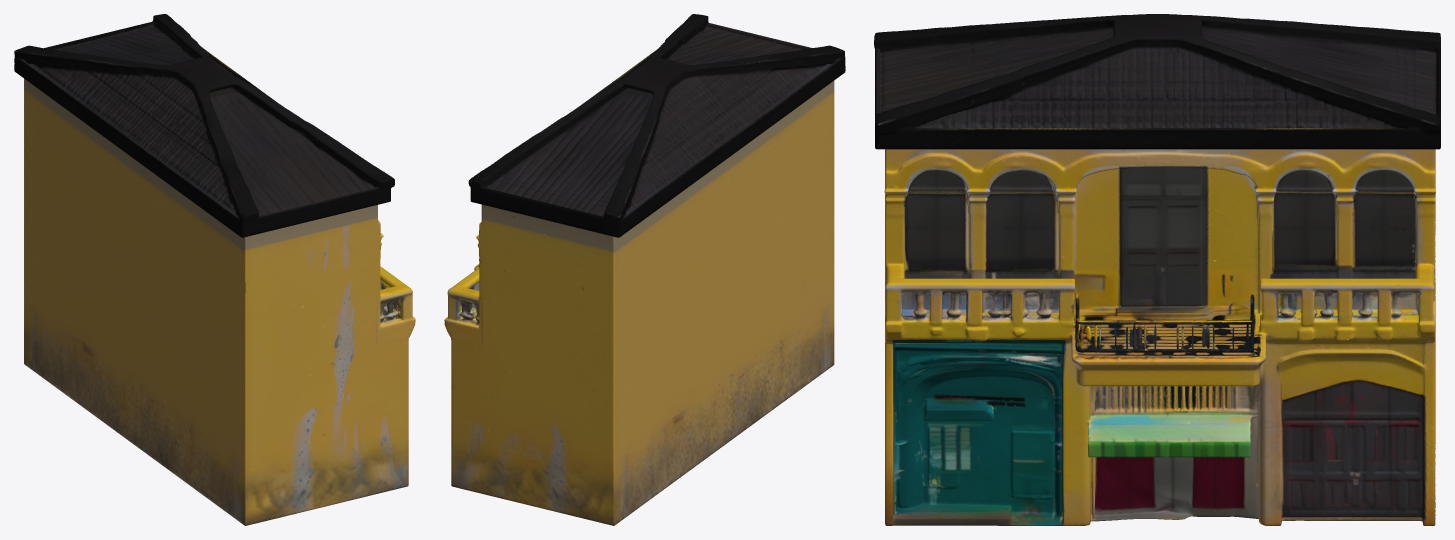
The model's file is building4.fbx.
3 views of the same model, side by side, from view 1: azimuth 30°, elevation 25°; view 2: azimuth 150°, elevation 25°; view 3: azimuth 270°, elevation 25° (orthographic). The views are drawn at different scales.
Parts seen in each view (by area): view 1: tripo_node_4334ac94; view 2: tripo_node_4334ac94; view 3: tripo_node_4334ac94.
Boxes of the visible parts, x1,y1,x2,y2 form: tripo_node_4334ac94: [14, 14, 415, 525]; tripo_node_4334ac94: [444, 14, 845, 525]; tripo_node_4334ac94: [874, 14, 1440, 525].
Size of the model in its own units: 55.54 by 86.4 by 100.
